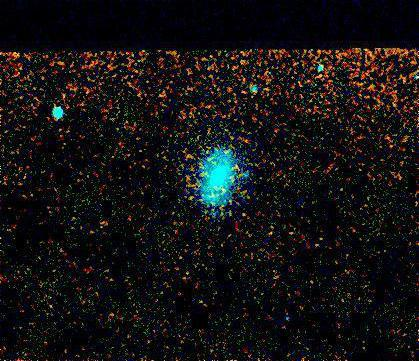star: (1, 37, 31, 67)
